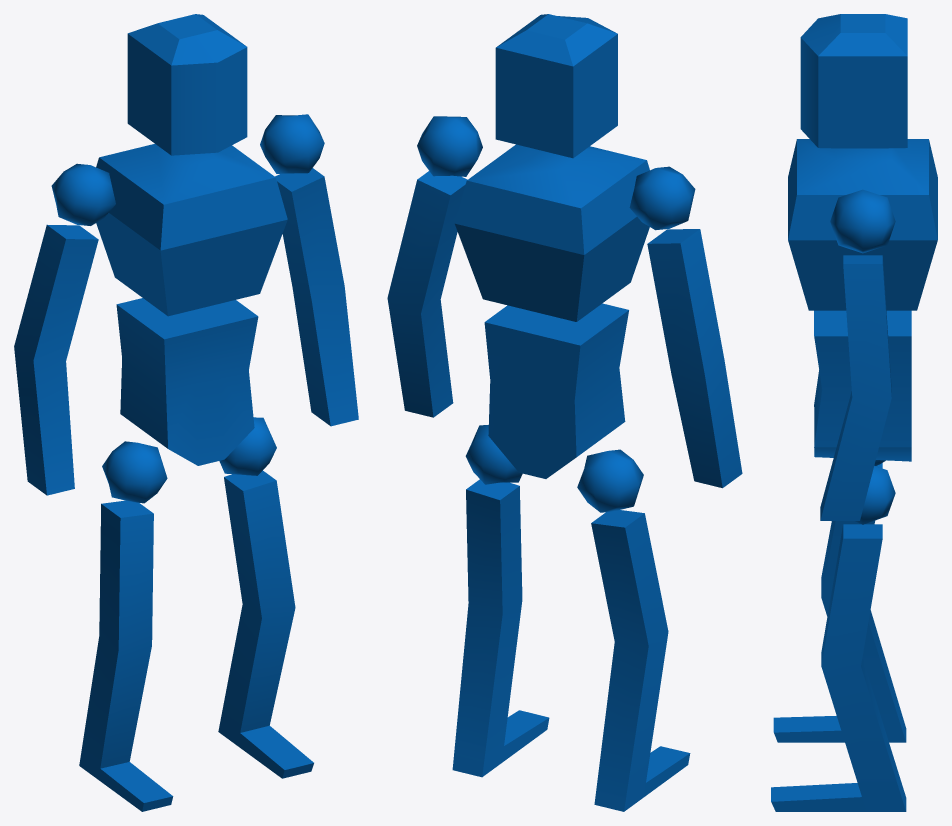
The model's file is baseCharacter_BASE.fbx.
3 renders of one model, left to right at view 1: azimuth 30°, elevation 25°; view 2: azimuth 150°, elevation 25°; view 3: azimuth 270°, elevation 25°, orthographic.
Visible parts, largest first — view 1: upperBody, lowerBody, legRight, legLeft, head, armRight, armLeft, shoulderRight, shoulderLeft, pelvisRight, pelvisLeft; view 2: upperBody, lowerBody, legRight, legLeft, head, armRight, armLeft, shoulderRight, shoulderLeft, pelvisRight, pelvisLeft; view 3: upperBody, legLeft, head, armLeft, lowerBody, legRight, shoulderLeft, pelvisLeft.
Part boxes in pixels (x1,y1,x2,y2): upperBody: [96, 144, 287, 316]; lowerBody: [116, 298, 258, 465]; legRight: [79, 500, 173, 811]; legLeft: [218, 470, 313, 778]; head: [127, 14, 247, 155]; armRight: [14, 224, 98, 495]; armLeft: [275, 168, 358, 426]; shoulderRight: [51, 163, 115, 225]; shoulderLeft: [260, 114, 324, 173]; pelvisRight: [102, 441, 167, 503]; pelvisLeft: [219, 417, 276, 475]; upperBody: [454, 144, 649, 321]; lowerBody: [484, 303, 628, 478]; legRight: [591, 510, 690, 811]; legLeft: [452, 479, 549, 777]; head: [495, 14, 617, 158]; armRight: [647, 229, 742, 488]; armLeft: [387, 171, 467, 417]; shoulderRight: [629, 166, 695, 230]; shoulderLeft: [417, 116, 482, 176]; pelvisRight: [577, 449, 643, 512]; pelvisLeft: [465, 425, 522, 484]; upperBody: [788, 139, 937, 310]; legLeft: [771, 524, 906, 811]; head: [800, 14, 907, 148]; armLeft: [820, 255, 891, 520]; lowerBody: [814, 310, 911, 461]; legRight: [773, 463, 906, 742]; shoulderLeft: [830, 189, 895, 253]; pelvisLeft: [855, 465, 895, 524].
Size of the model in its own units: 78.82 by 176 by 35.62.
